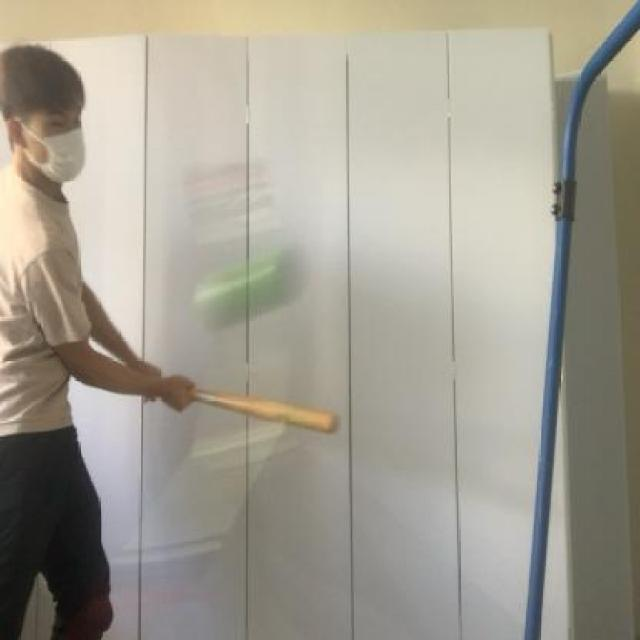baseball: (188, 231, 308, 324)
